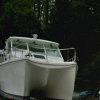Boat: (2, 30, 78, 100)
